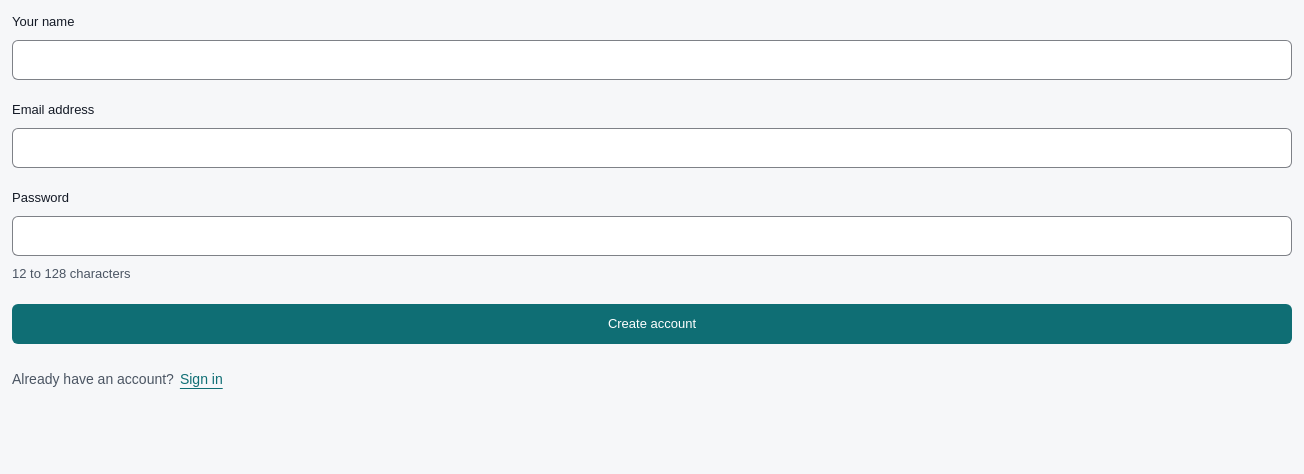
Test: SignUpForm (UI-002) › renders the generic message when the request never reaches the server
Type "Lena Ortiz" into the field labelled "Your name" at (652, 60), box [12,40,1292,80]
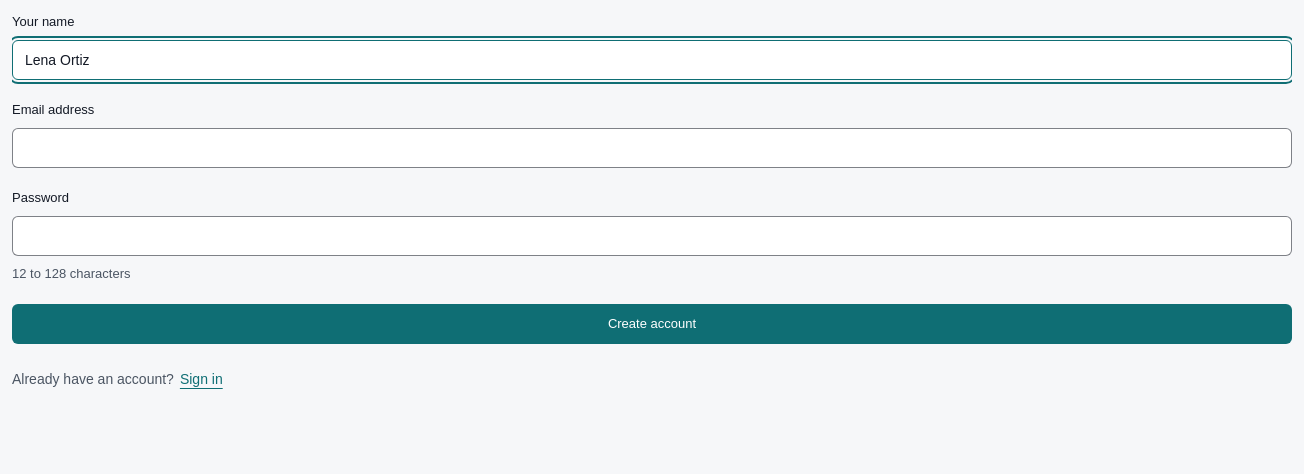
Type "lena@example.edu" into the field labelled "Email address" at (652, 148), box [12,128,1292,168]
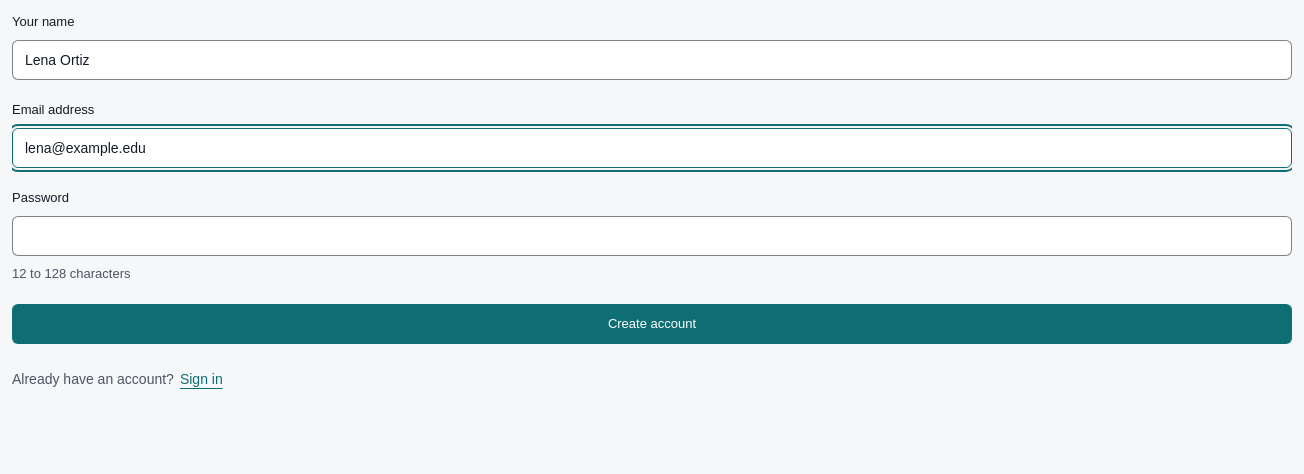
Type "a-very-long-password" into the password field labelled "Password" at (652, 236), box [12,216,1292,256]
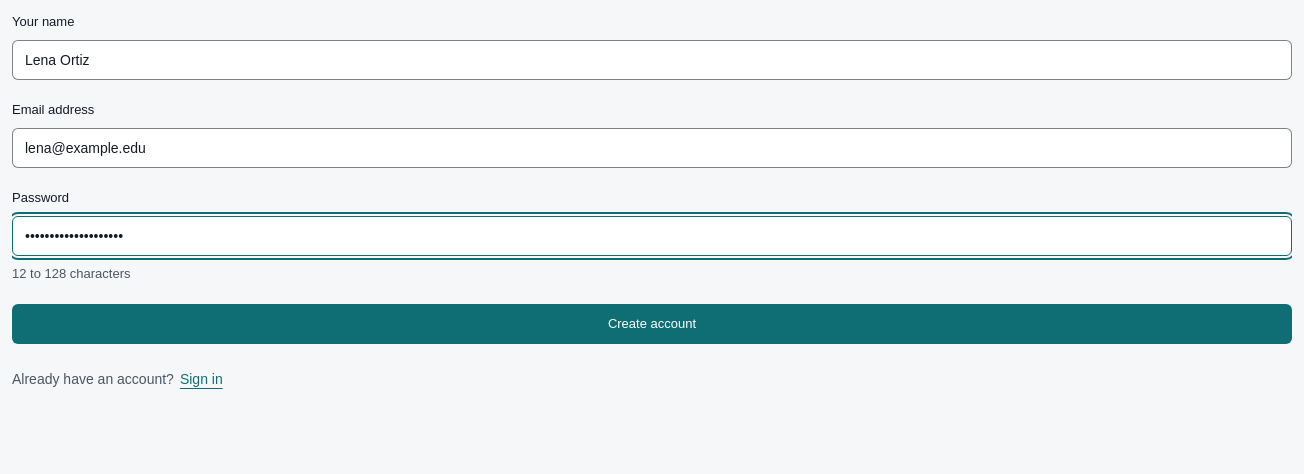
Click the button "Create account" at (652, 324), box [12,304,1292,344]
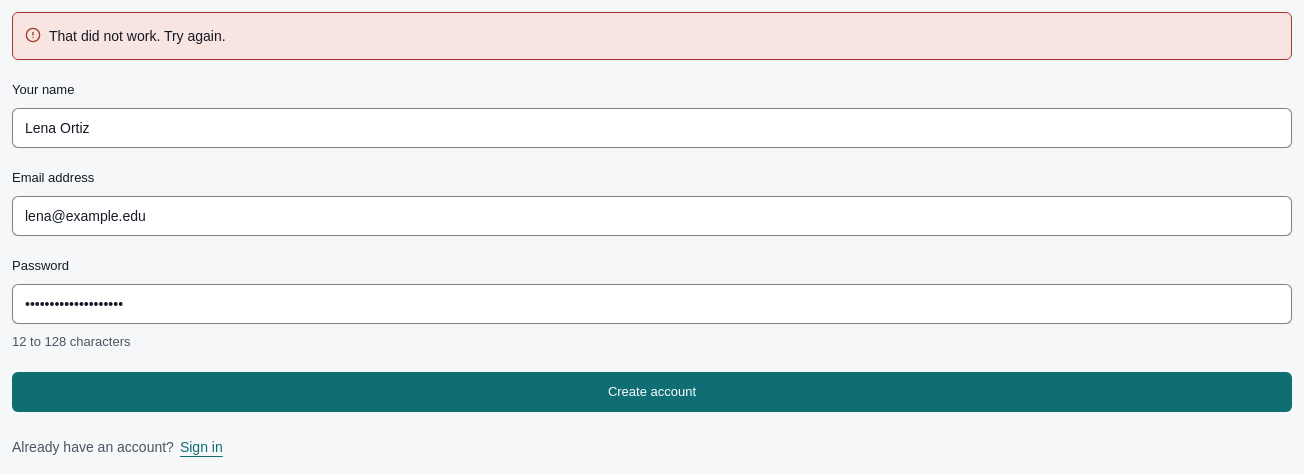
Expected: the button "Create account" is enabled, [12,372,1292,412]
Expected: the message reads "That did not work. Try again.", [49,28,226,44]
